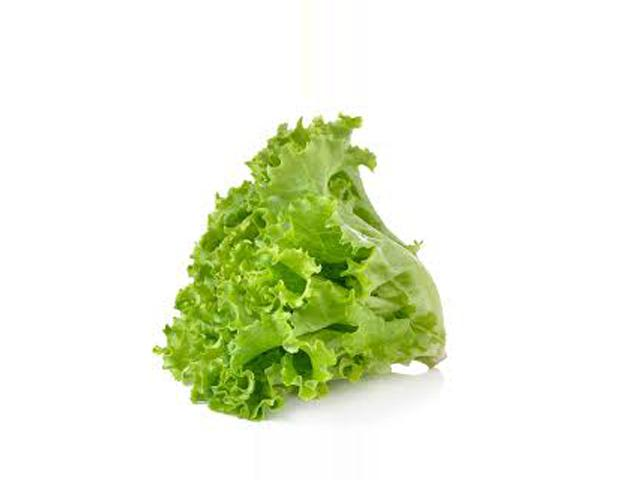lettuce: (137, 104, 464, 419)
